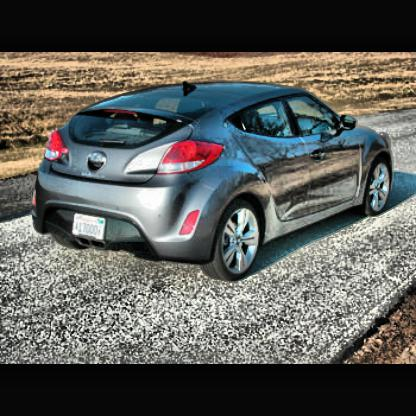Hyundai Veloster Hatchback 2012: (19, 72, 408, 288)
